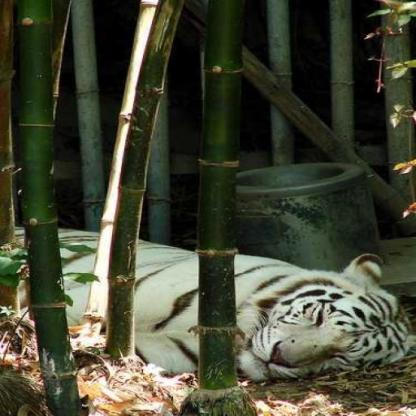Tiger: (43, 242, 414, 372)
